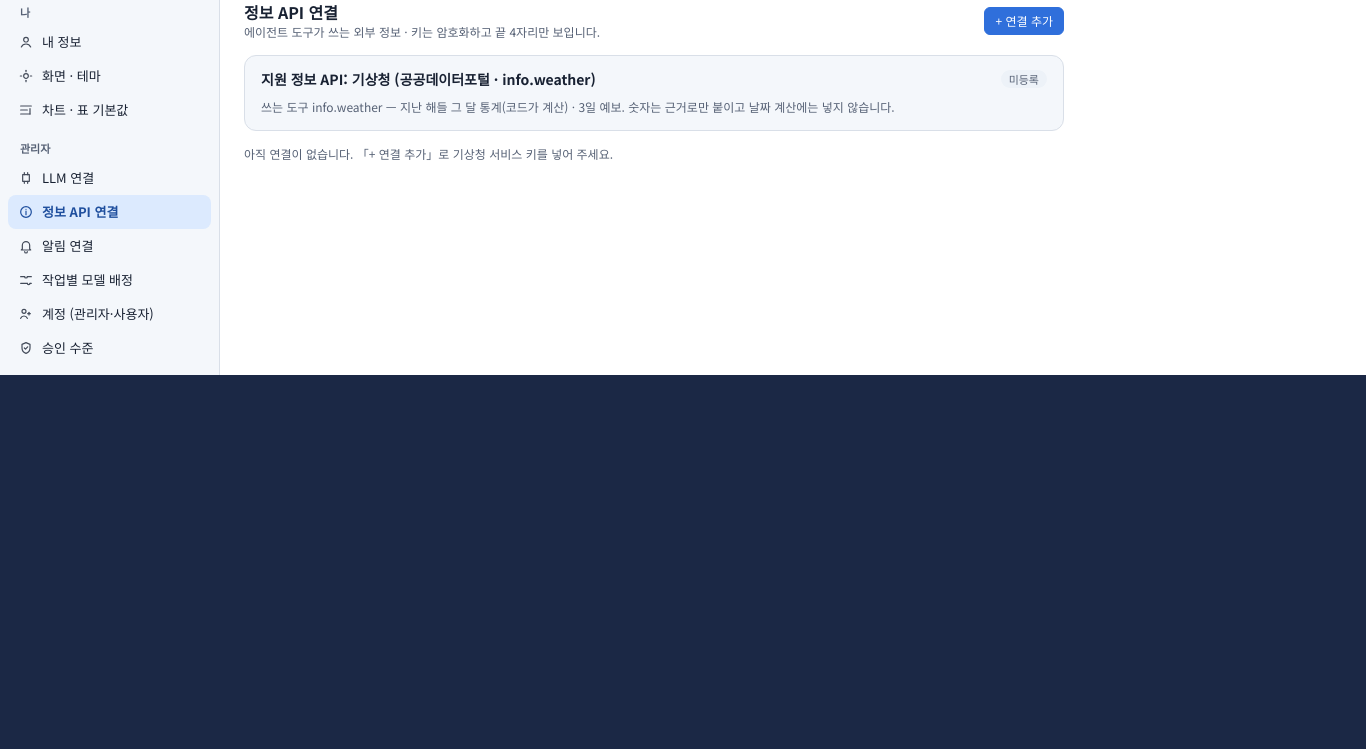
saving without the required fields shows Korean messages and sends nothing
This screenshot has width=1366, height=749.
Click the button "+ 연결 추가": coordinates (1024, 21) [984, 7, 1064, 35]
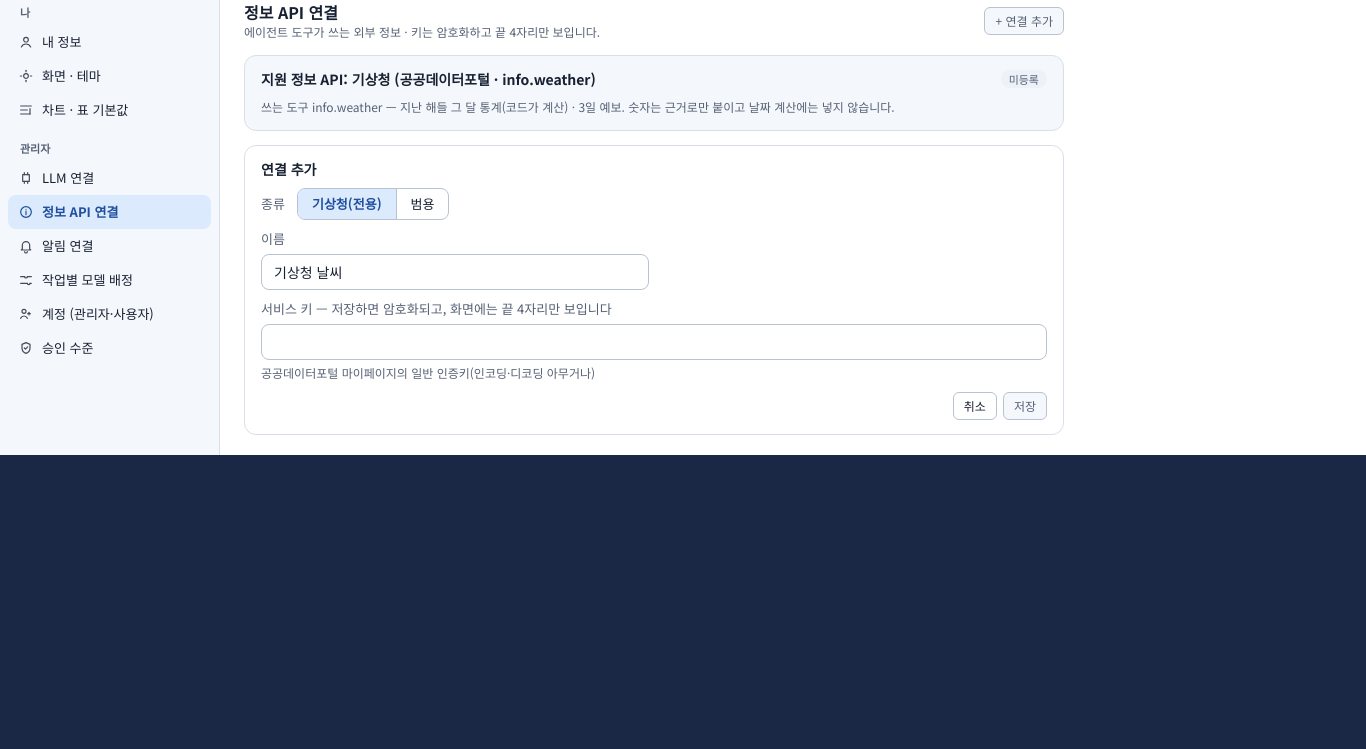
Click the radio button labelled "범용": coordinates (422, 204) [396, 189, 448, 219]
(page scrolled)
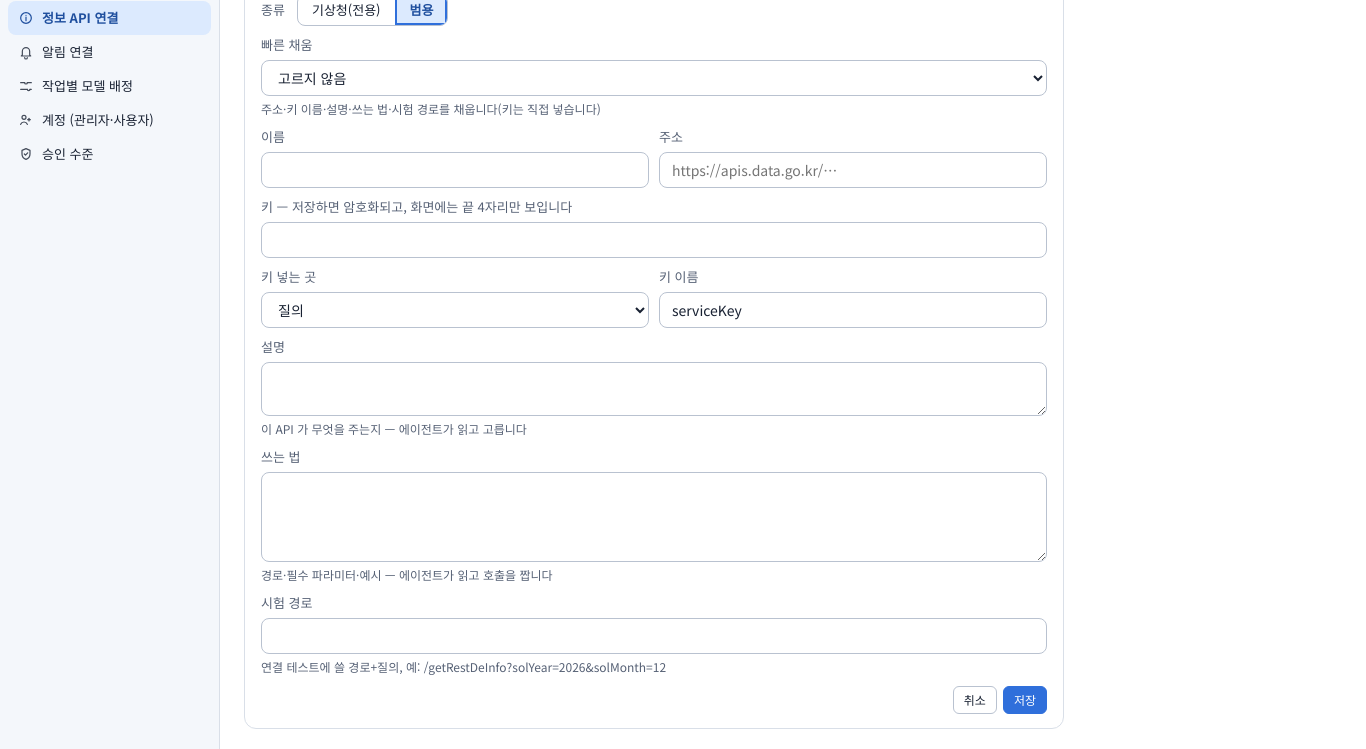
Click the button "저장": coordinates (1025, 700) [1003, 686, 1047, 714]
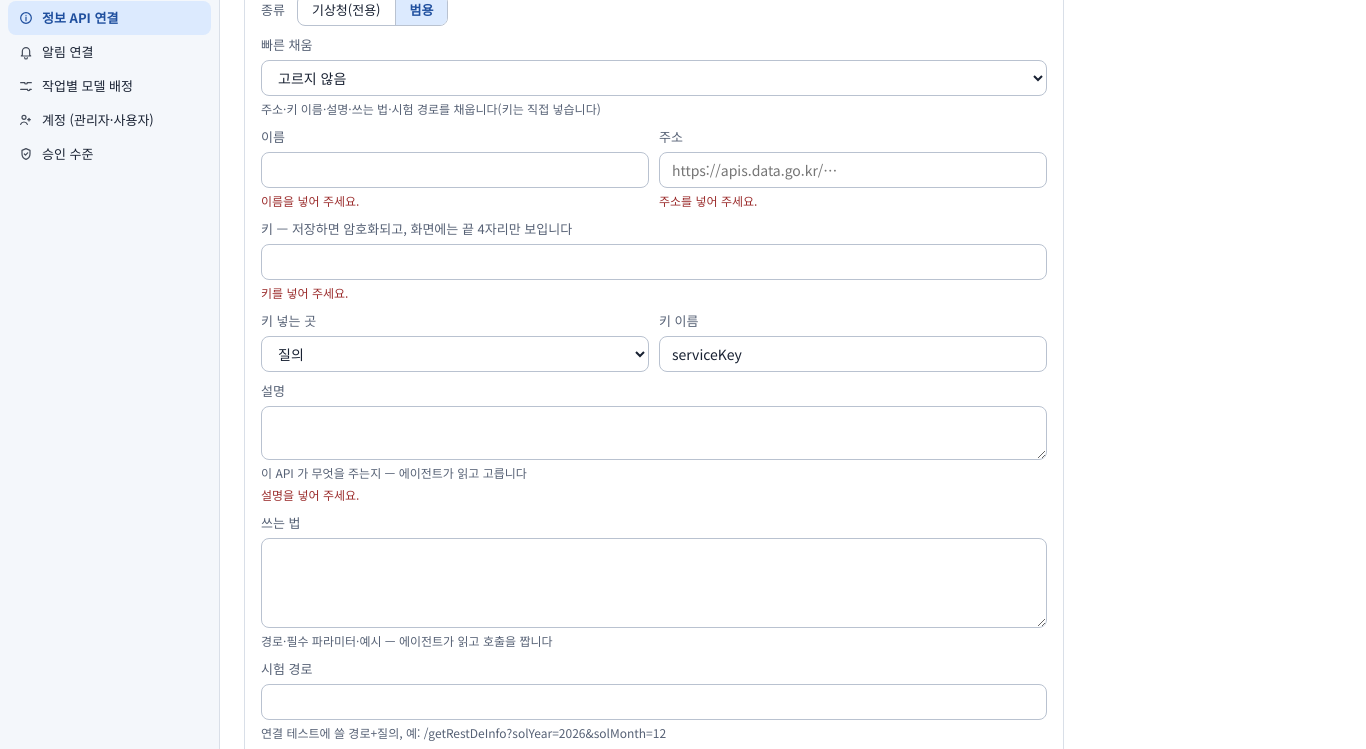
Check: the text "이름을 넣어 주세요." is shown, box [261, 192, 359, 209]
Check: the text "주소를 넣어 주세요." is shown, box [659, 192, 757, 209]
Check: the text "키를 넣어 주세요." is shown, box [261, 284, 348, 301]
